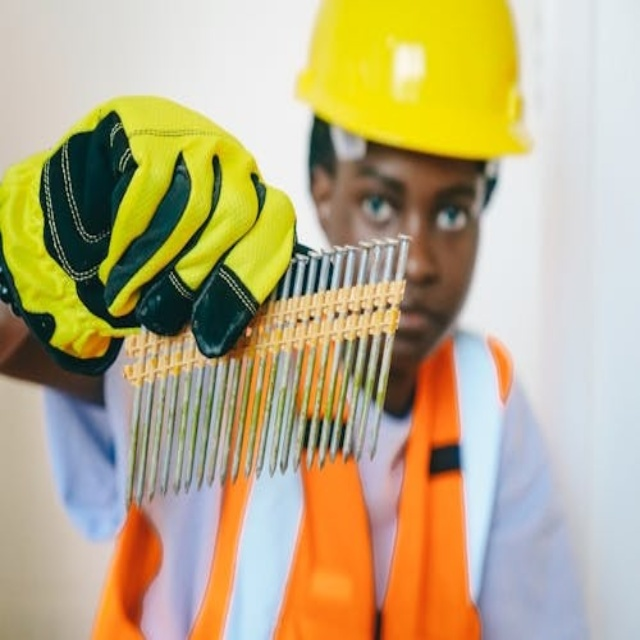Guantes: (0, 97, 299, 374)
Sin_gafas: (349, 164, 477, 234)
Sin_mascara: (394, 297, 443, 372)
